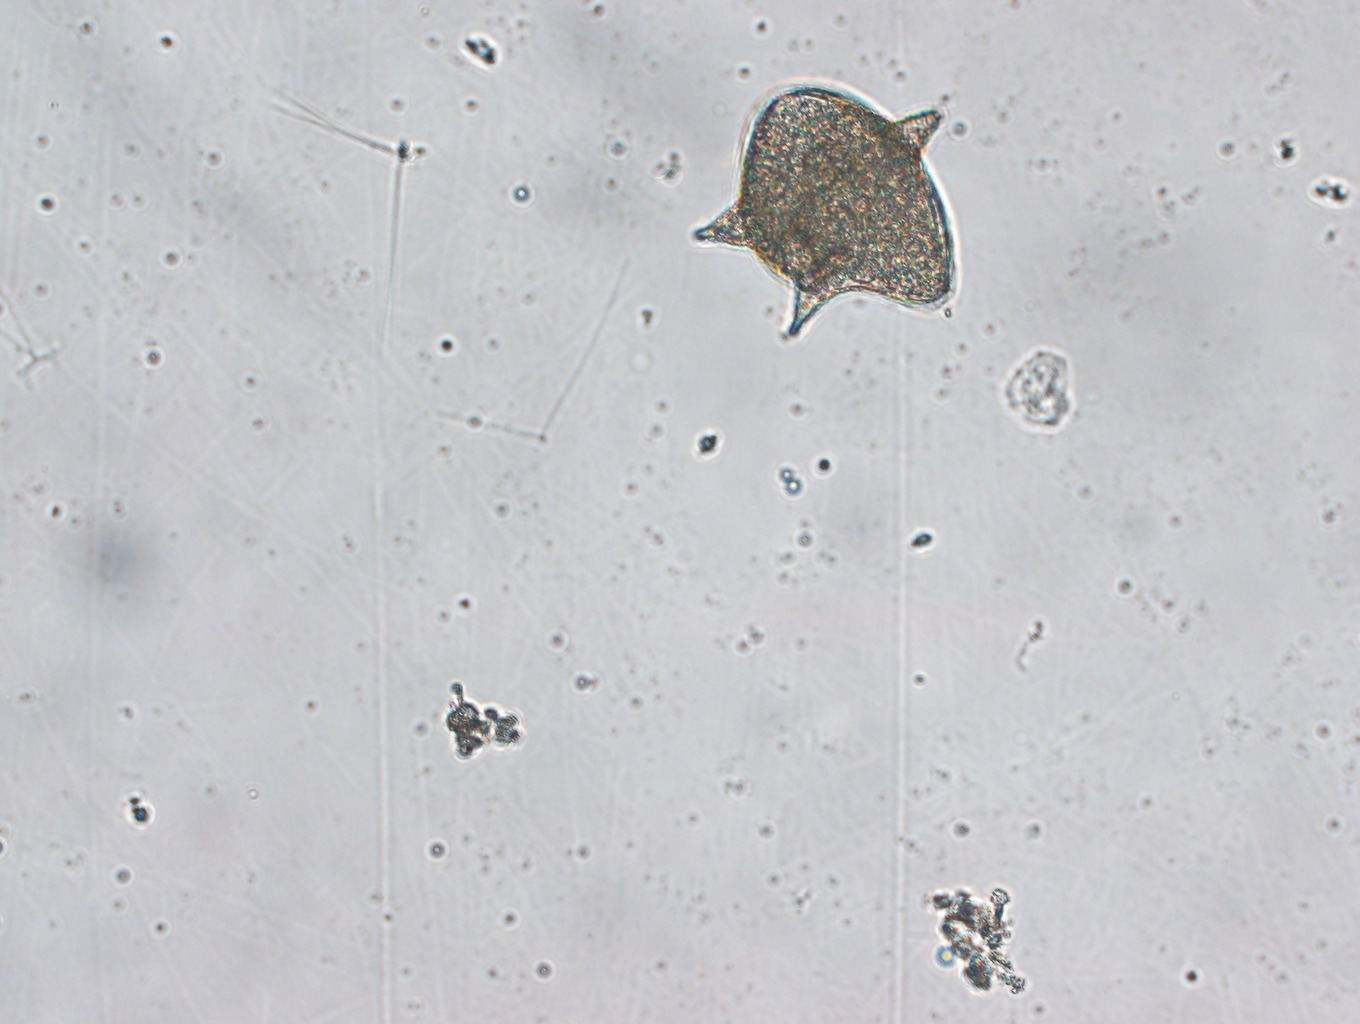protoperidinium: (692, 79, 962, 339)
